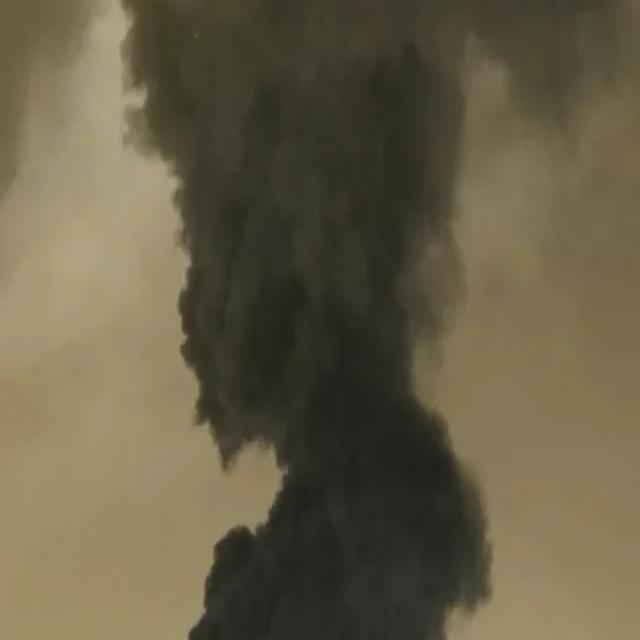Smoke: (118, 0, 601, 640)
